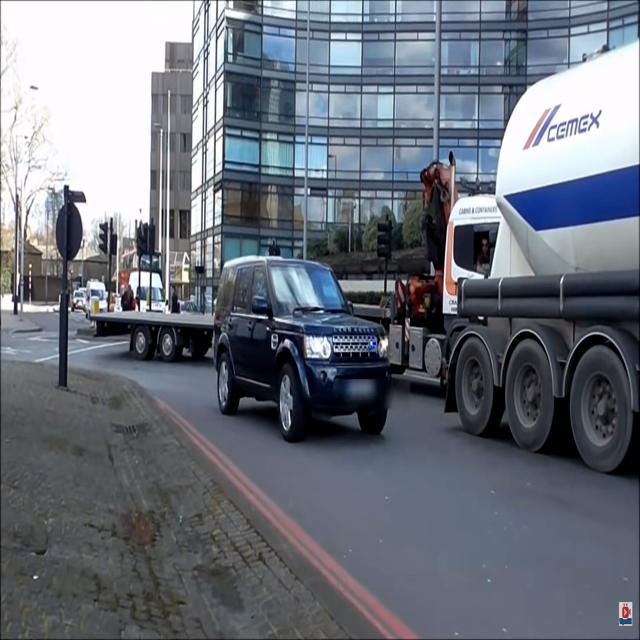emergency-vehicles: (191, 242, 414, 453)
